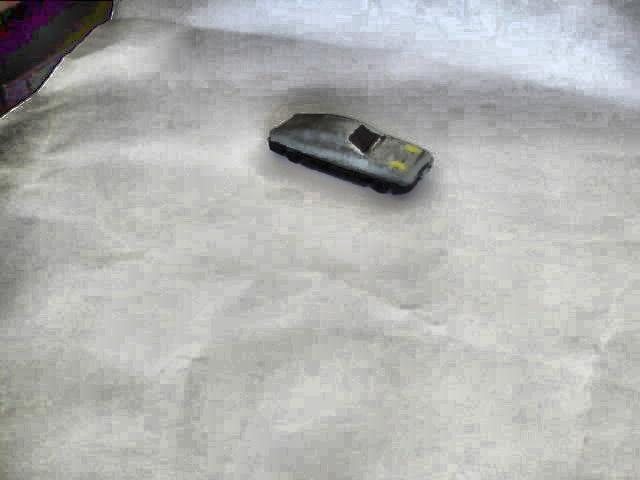normal_car: (262, 107, 434, 198)
